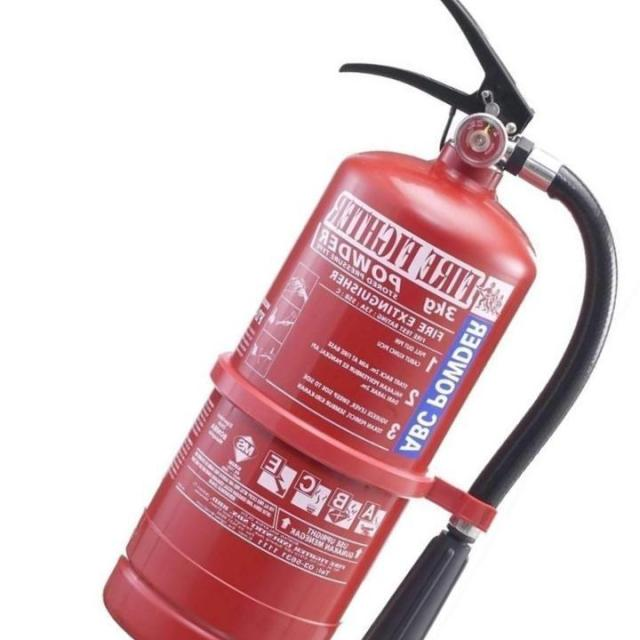fire_extinguisher: (87, 0, 624, 637)
